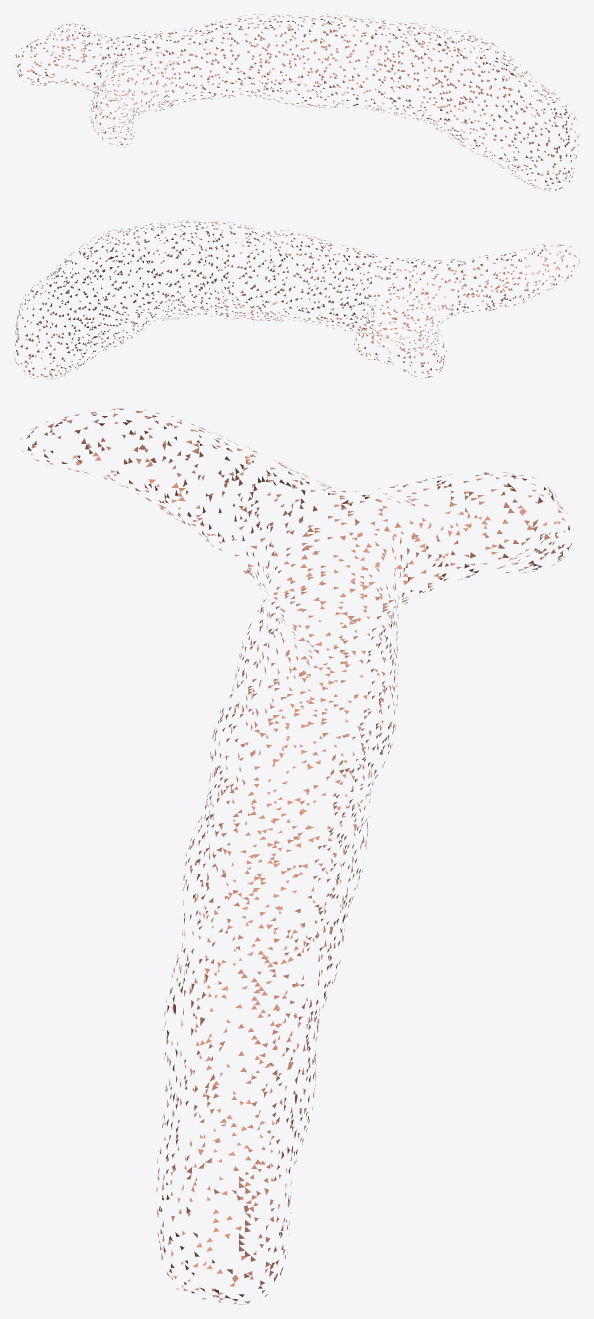
Rendered from morph_003.glb.
3 renders of one model, top to bottom at view 1: azimuth 30°, elevation 25°; view 2: azimuth 150°, elevation 25°; view 3: azimuth 270°, elevation 25°, orthographic. The views are drawn at different scales.
Size of the model in its own units: 129 by 53.72 by 60.98.
